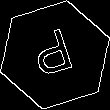P_S: (29, 25, 81, 85)
